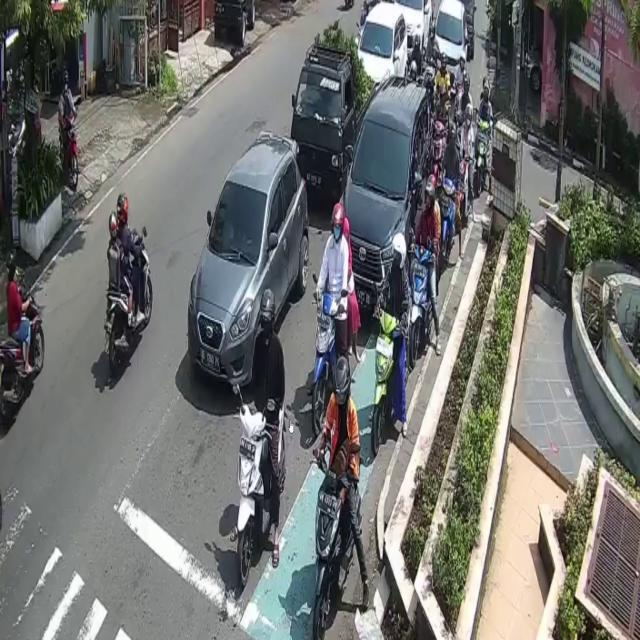bus: (234, 390, 290, 583), (313, 458, 360, 640), (96, 228, 152, 374), (1, 288, 44, 423), (371, 306, 399, 452), (314, 292, 343, 430), (410, 243, 433, 361), (60, 108, 80, 188), (476, 118, 494, 186), (442, 174, 457, 252)
motorcycle: (188, 131, 308, 393), (341, 77, 434, 322), (290, 42, 376, 200), (358, 0, 409, 84), (434, 0, 468, 95), (394, 0, 431, 58)
